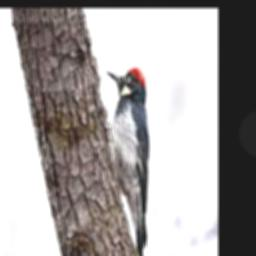Woodpecker: (106, 66, 148, 256)
